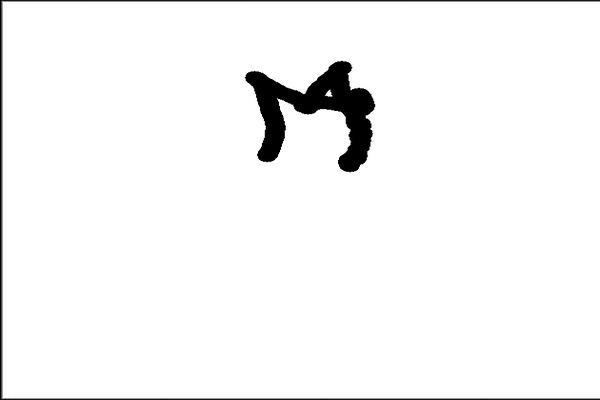M: (246, 61, 375, 179)
